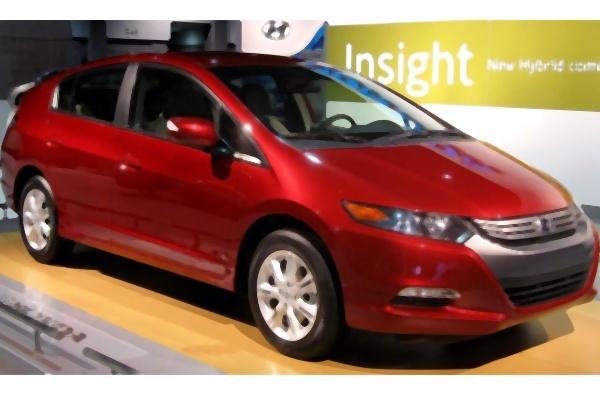Car hood: (287, 126, 579, 217)
Driver-s door - -F-R-: (103, 41, 241, 296)
Fender - -F-R-: (224, 109, 337, 300)
Fender - -R-R-: (2, 66, 59, 203)
Front bumper: (327, 209, 600, 343)
Headlight - -R-: (341, 199, 479, 250)
Passenger-s door - -R-R-: (28, 38, 140, 260)
Side bumper - -R-: (55, 213, 240, 305)
Side mirror - -R-: (165, 113, 234, 165)
